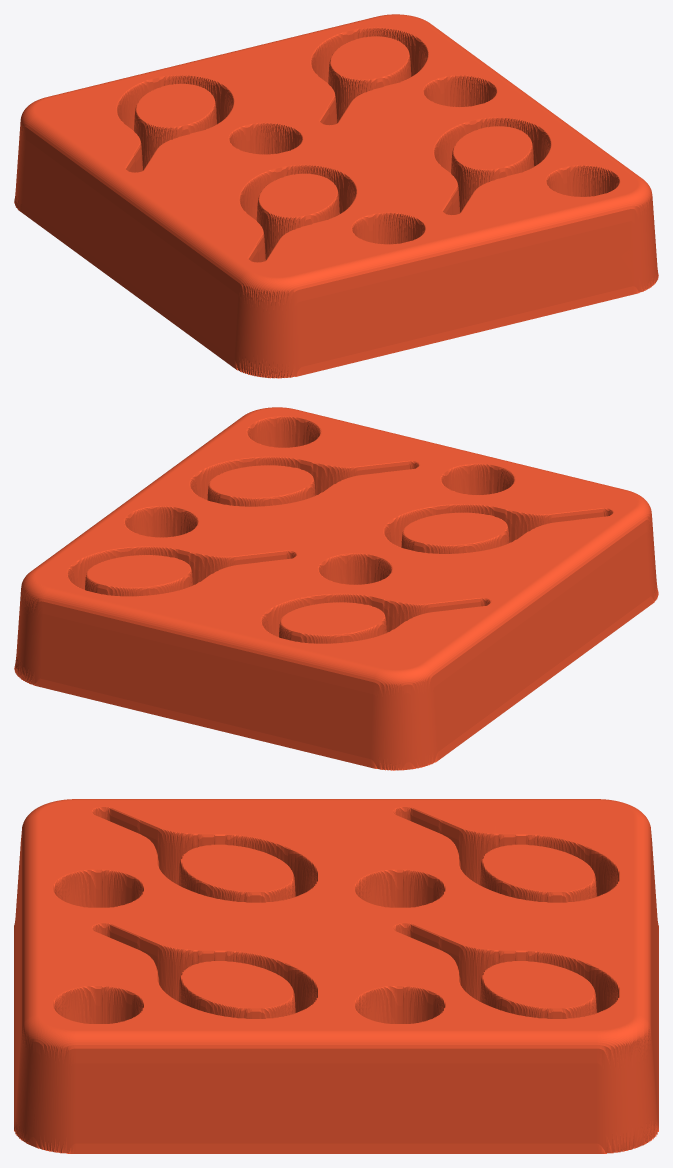
Rendered from mold.glb.
The picture shows the model from 3 angles, top to bottom: view 1: azimuth 30°, elevation 25°; view 2: azimuth 150°, elevation 25°; view 3: azimuth 270°, elevation 25°; orthographic projection. The views are drawn at different scales.
Parts seen in each view (by area): view 1: geometry_0; view 2: geometry_0; view 3: geometry_0.
Part boxes in pixels (bbox=[...]): geometry_0: bbox=[14, 14, 658, 378]; geometry_0: bbox=[14, 407, 658, 770]; geometry_0: bbox=[14, 799, 658, 1153].
Bounding box in the file's own units: 0.0866 × 0.0182 × 0.0942.
